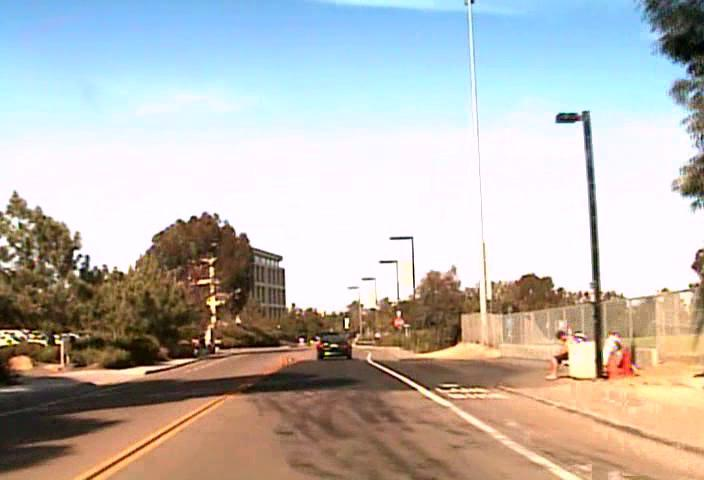stop: (393, 317, 404, 327)
